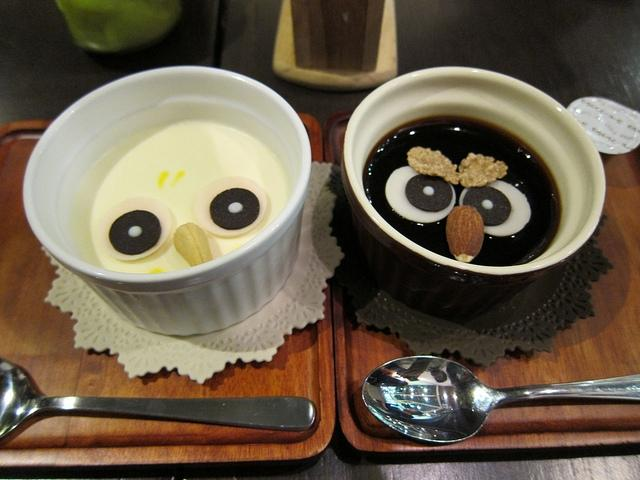almond: (446, 206, 484, 262)
